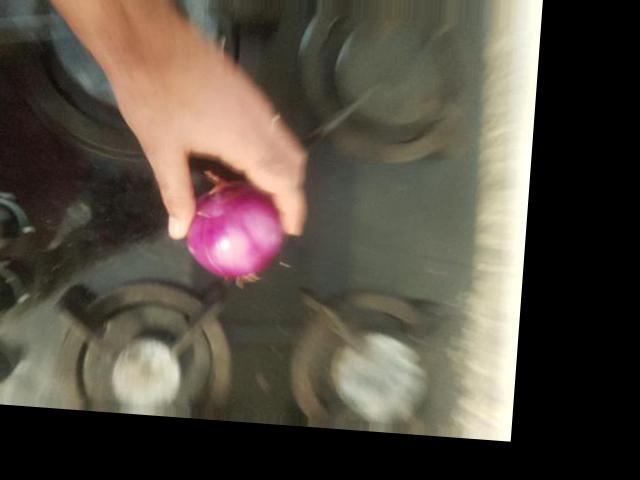onion: (155, 155, 286, 275)
